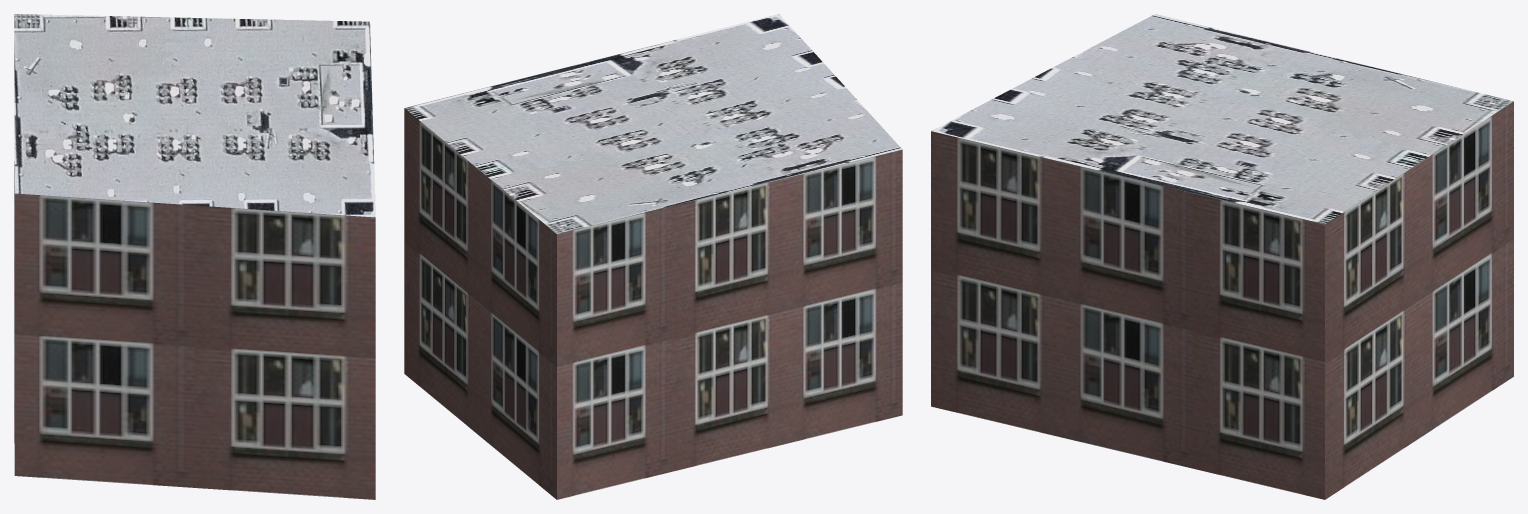
The model's file is ResTex__4480.fbx.
The picture shows the model from 3 angles, left to right: view 1: azimuth 30°, elevation 25°; view 2: azimuth 150°, elevation 25°; view 3: azimuth 270°, elevation 25°; orthographic projection. The views are drawn at different scales.
Parts seen in each view (by area): view 1: CityEngineMaterial_12_m, CityEngineMaterial_4_m; view 2: CityEngineMaterial_12_m, CityEngineMaterial_4_m; view 3: CityEngineMaterial_12_m, CityEngineMaterial_4_m.
Boxes of the visible parts, left/top/right/bottom form: CityEngineMaterial_12_m: left=14, top=161, right=375, bottom=499; CityEngineMaterial_4_m: left=14, top=14, right=375, bottom=217; CityEngineMaterial_12_m: left=404, top=108, right=902, bottom=499; CityEngineMaterial_4_m: left=404, top=14, right=902, bottom=233; CityEngineMaterial_12_m: left=931, top=101, right=1513, bottom=499; CityEngineMaterial_4_m: left=931, top=14, right=1513, bottom=224.
Bounding box in the file's own units: 9.84 × 6 × 11.51.
2 materials, 2 textured.
